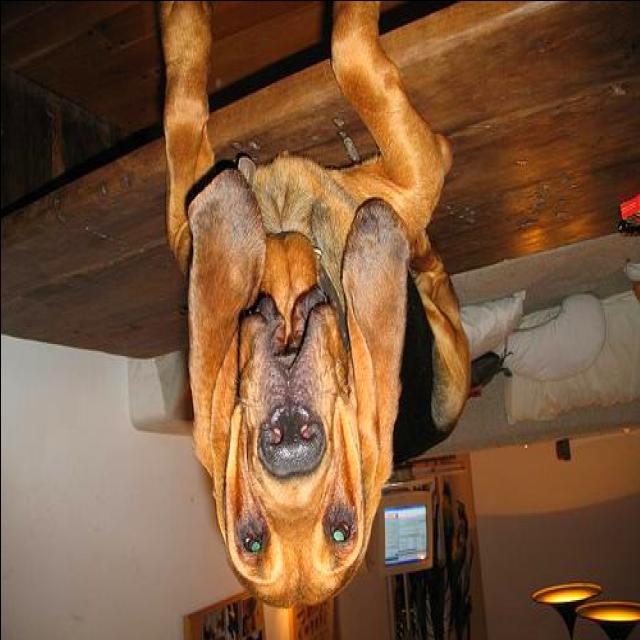bloodhound: (156, 2, 478, 616)
